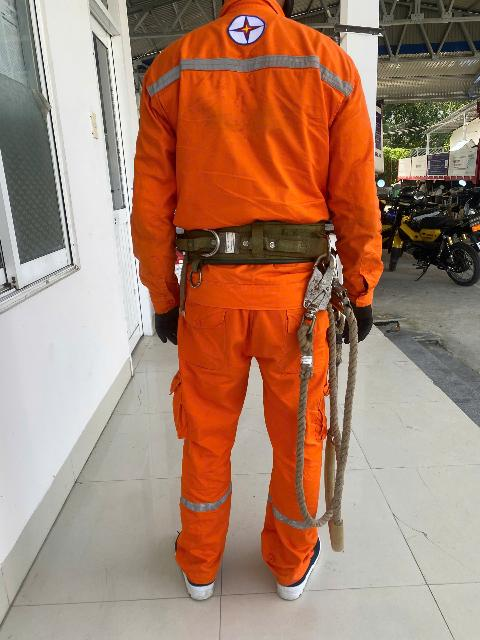gloves: (138, 289, 195, 357), (329, 293, 387, 359)
harness: (167, 210, 352, 270)
shoes: (264, 515, 352, 612), (158, 518, 231, 602)
